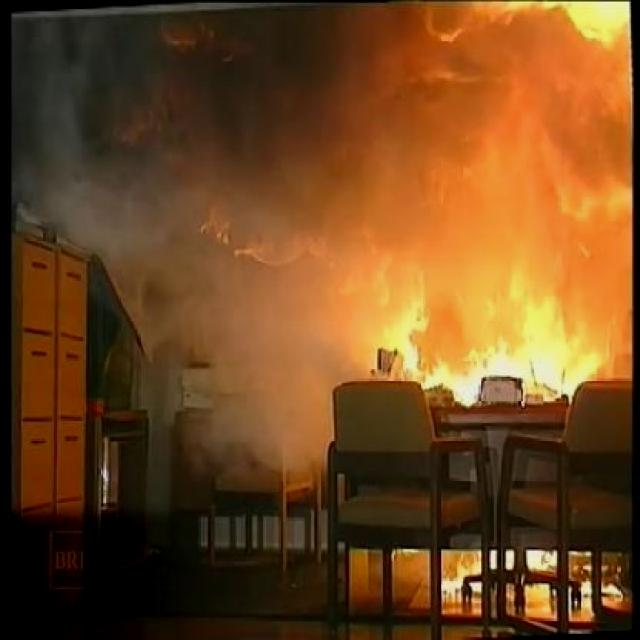fire: (333, 1, 631, 352)
smoke: (14, 12, 314, 258)
